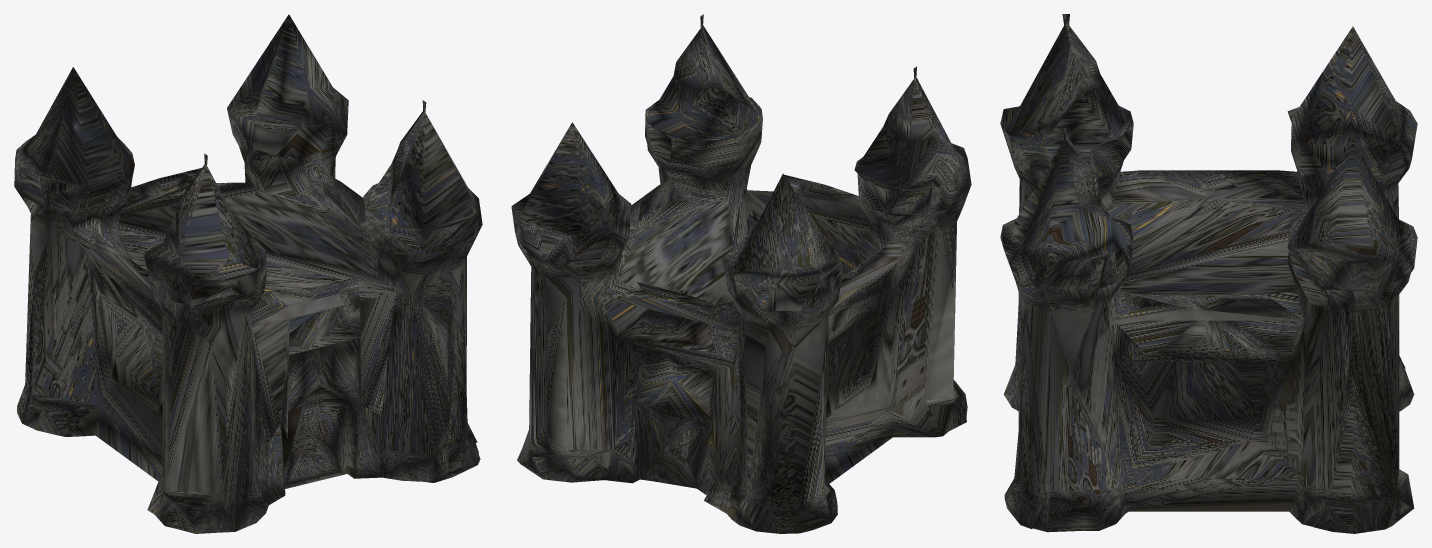
File: medieval-castle.lod.glb
The picture shows the model from 3 angles, left to right: view 1: azimuth 30°, elevation 25°; view 2: azimuth 150°, elevation 25°; view 3: azimuth 270°, elevation 25°; orthographic projection. The views are drawn at different scales.
Parts seen in each view (by area): view 1: tripo_node_db2616eb-6131-45a3-8974-6f71fb925d88; view 2: tripo_node_db2616eb-6131-45a3-8974-6f71fb925d88; view 3: tripo_node_db2616eb-6131-45a3-8974-6f71fb925d88.
Part boxes in pixels (x1,y1,x2,y2): tripo_node_db2616eb-6131-45a3-8974-6f71fb925d88: (14,14,482,533); tripo_node_db2616eb-6131-45a3-8974-6f71fb925d88: (511,14,971,533); tripo_node_db2616eb-6131-45a3-8974-6f71fb925d88: (1000,14,1417,533).
Bounding box in the file's own units: 0.916 × 0.9766 × 0.9707.
Materials: 1 (1 with a texture image).
